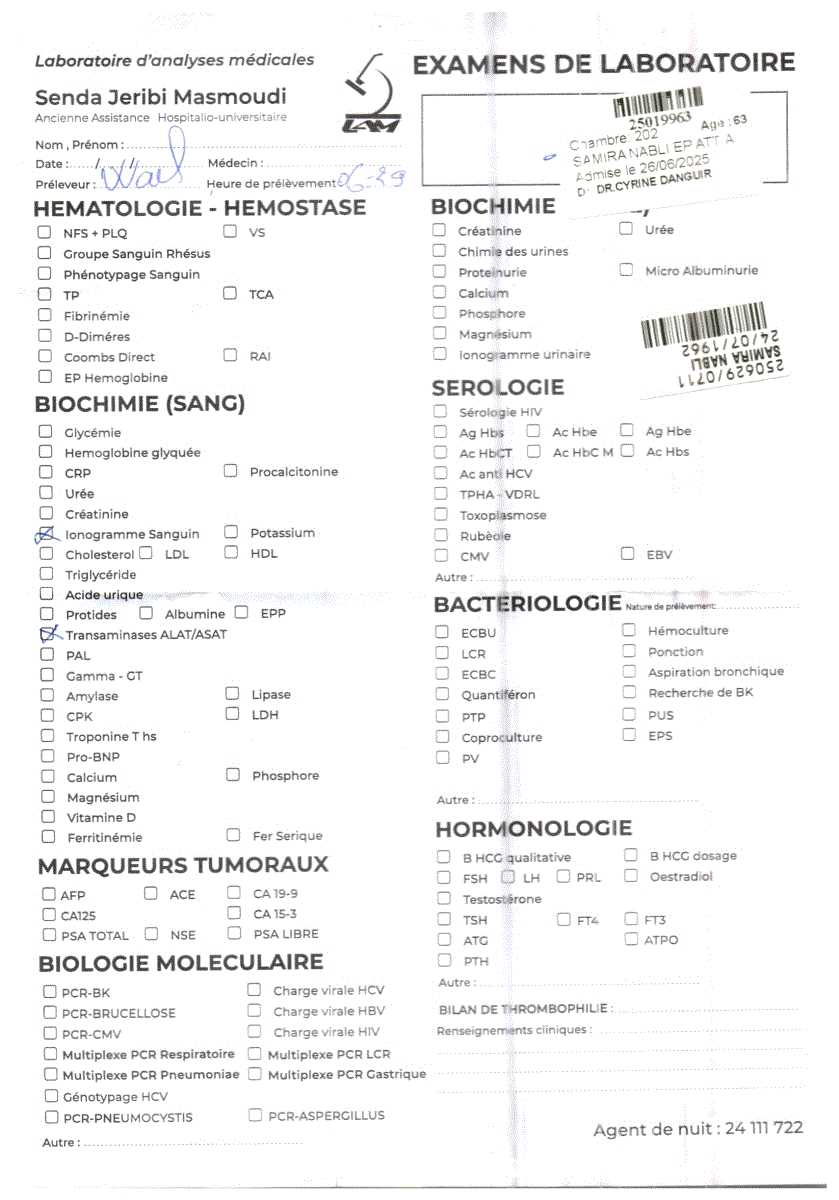zone_analyses: (30, 194, 820, 1177)
zone_date: (573, 171, 713, 188)
zone_patient: (560, 151, 749, 168)
zone_prescripteur: (575, 187, 732, 204)
